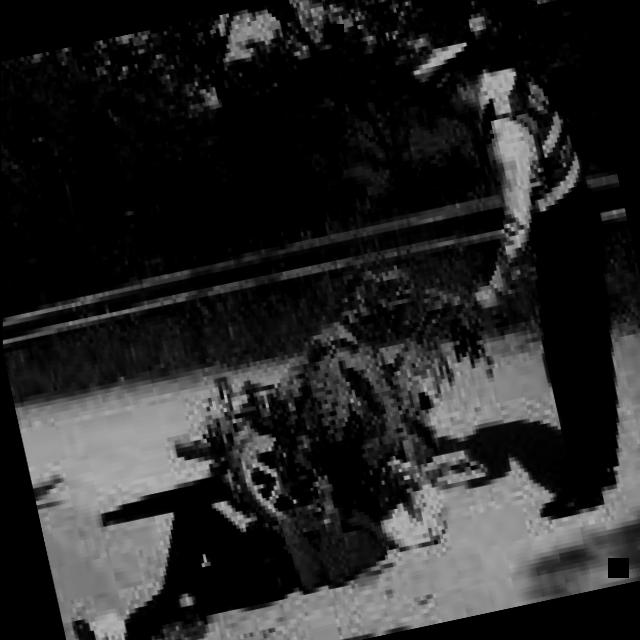Fall-Detected: (33, 419, 453, 640)
